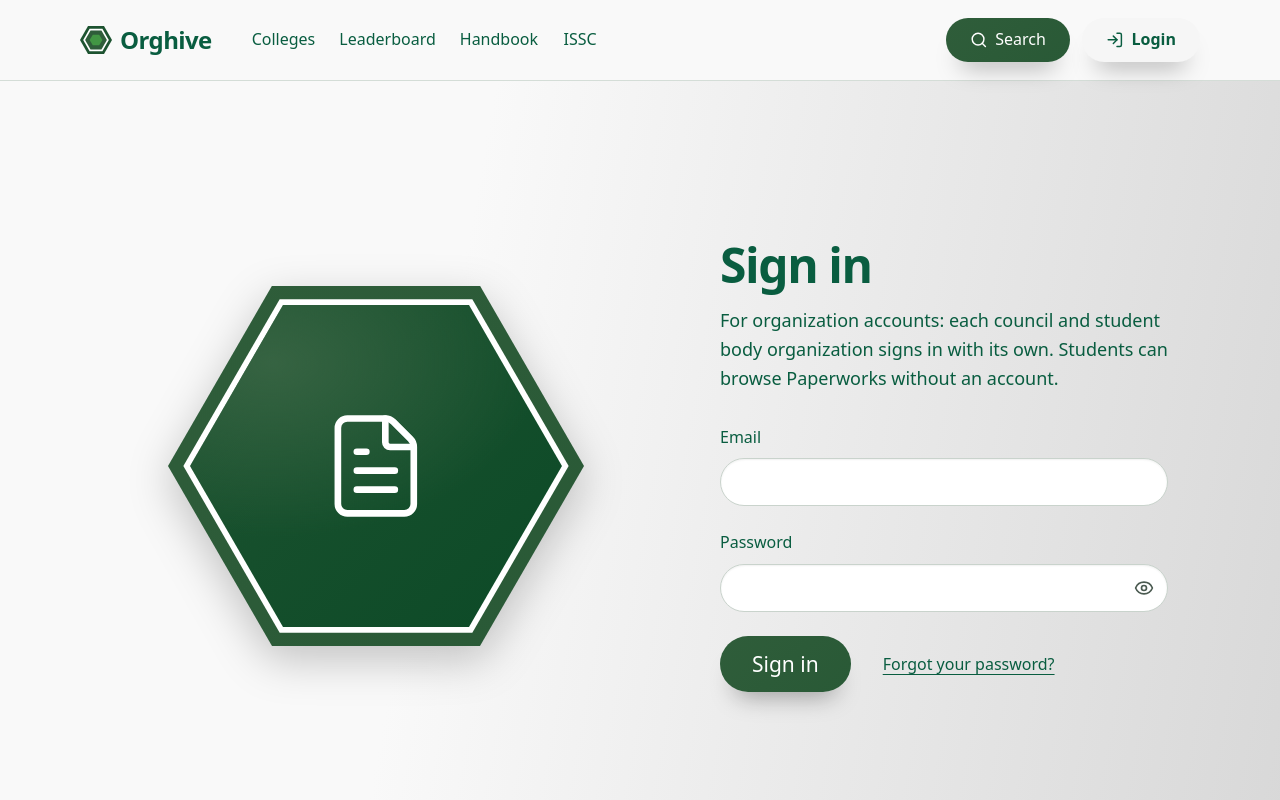
Scenario: /login › validates before sending
This screenshot has width=1280, height=800.
Click the button "Sign in".
click(785, 664)  # box [720,636,851,692]
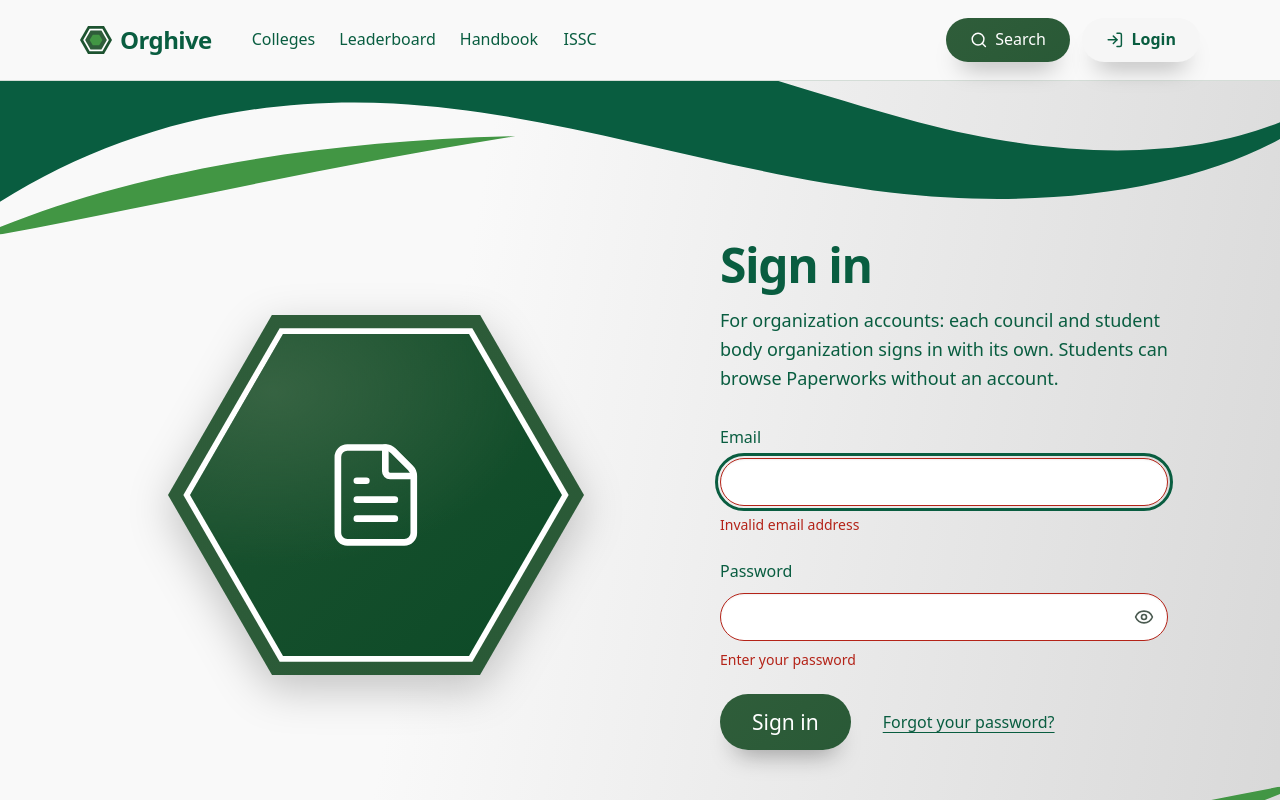
Result: the text "Enter your password" is shown at [720,650,856,669]
